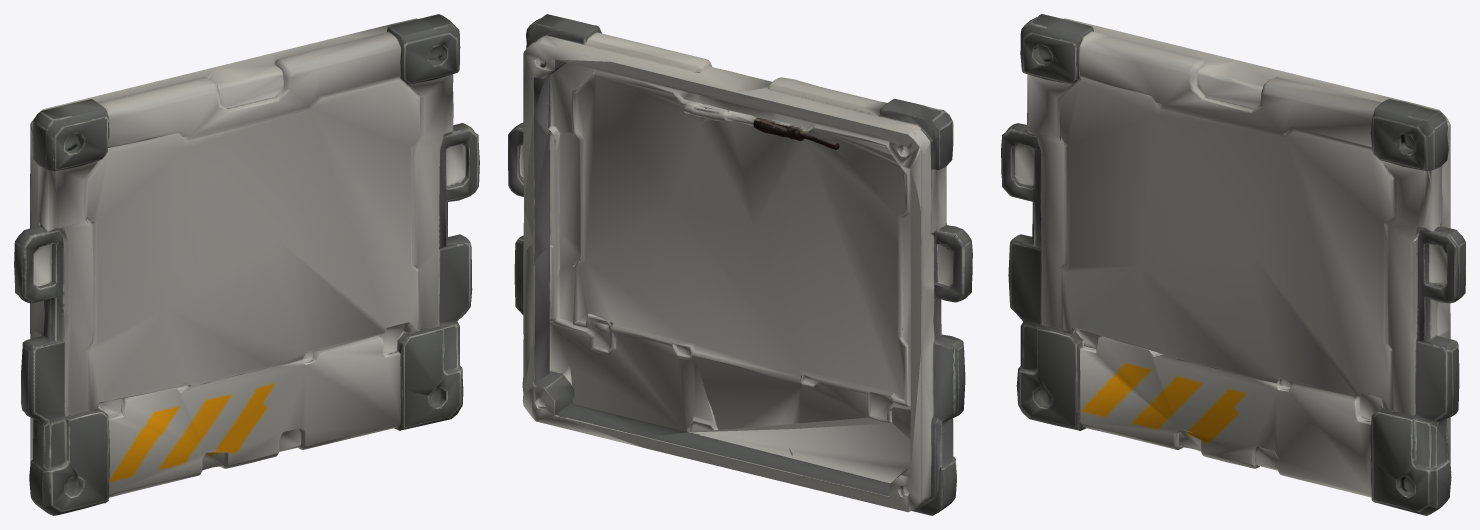
File: 10_debris_access_panel.fbx
3 renders of one model, left to right at view 1: azimuth 30°, elevation 25°; view 2: azimuth 150°, elevation 25°; view 3: azimuth 330°, elevation 25°, orthographic.
Parts seen in each view (by area): view 1: 10_debris_access_panel; view 2: 10_debris_access_panel; view 3: 10_debris_access_panel.
Boxes of the visible parts, bbox=[...] form: 10_debris_access_panel: bbox=[14, 14, 479, 515]; 10_debris_access_panel: bbox=[508, 14, 972, 515]; 10_debris_access_panel: bbox=[1001, 14, 1465, 515].
Size of the model in its own units: 0.8 by 0.6616 by 0.0835.
1 material, 1 textured.
